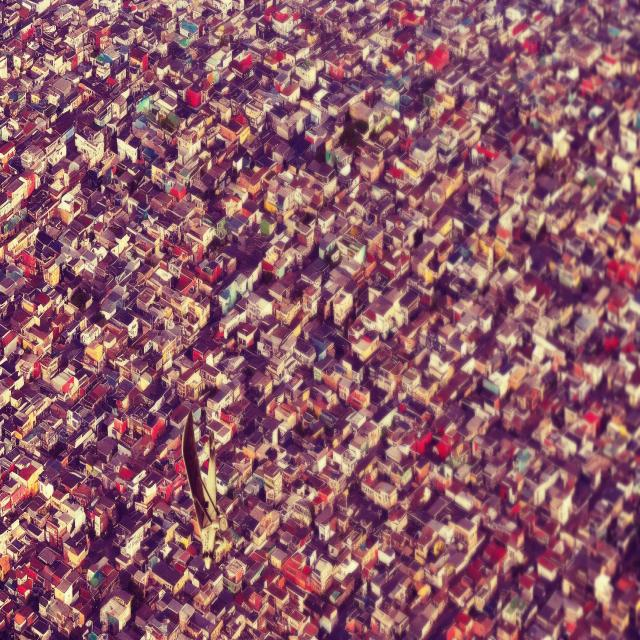airplane: (180, 408, 232, 560)
